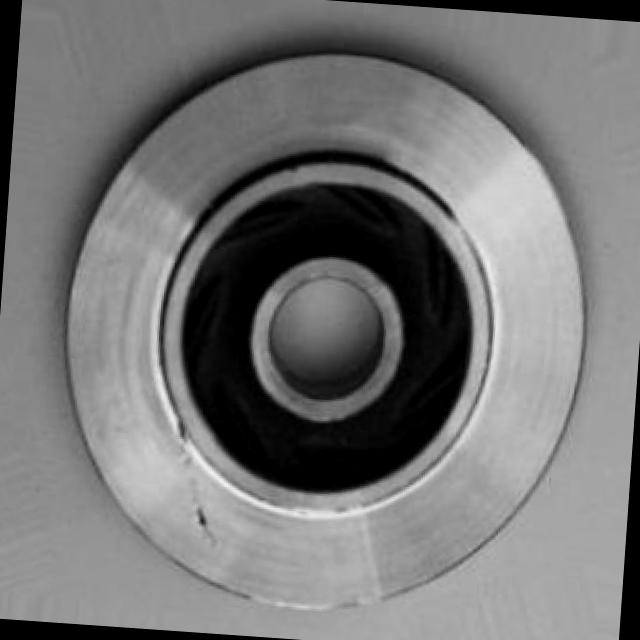Defect: (187, 496, 220, 547)
